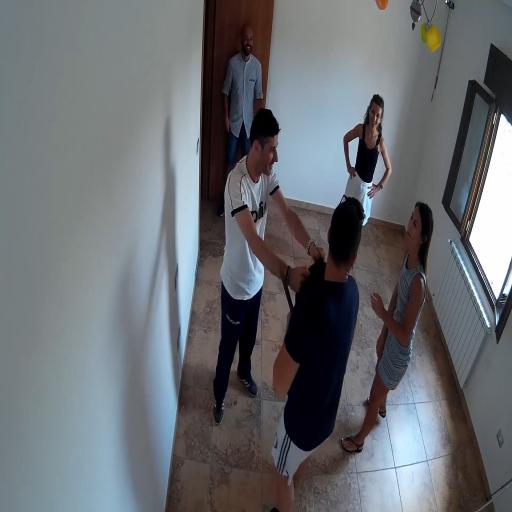violencia: (203, 103, 369, 512)
